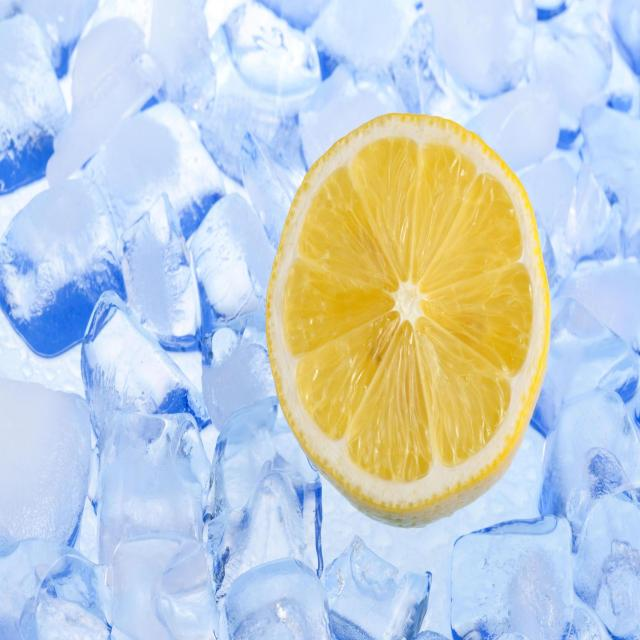lemon: (258, 102, 557, 532)
